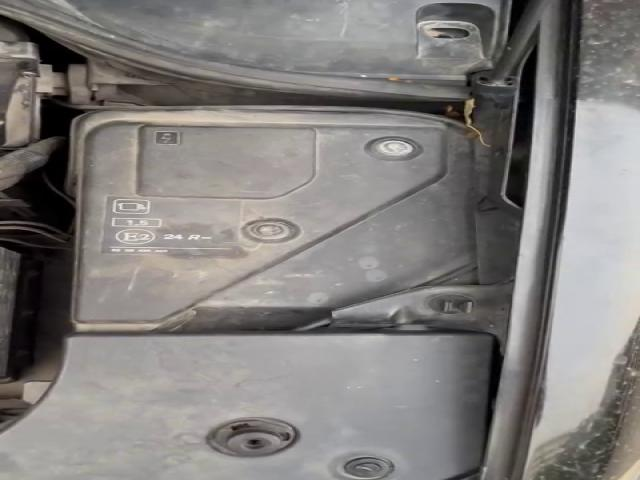fuse_box: (78, 122, 458, 324)
